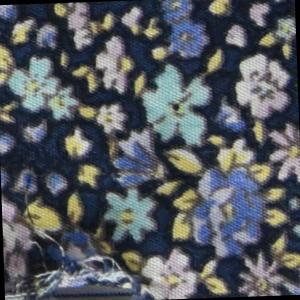Damage: (1, 156, 158, 300)
